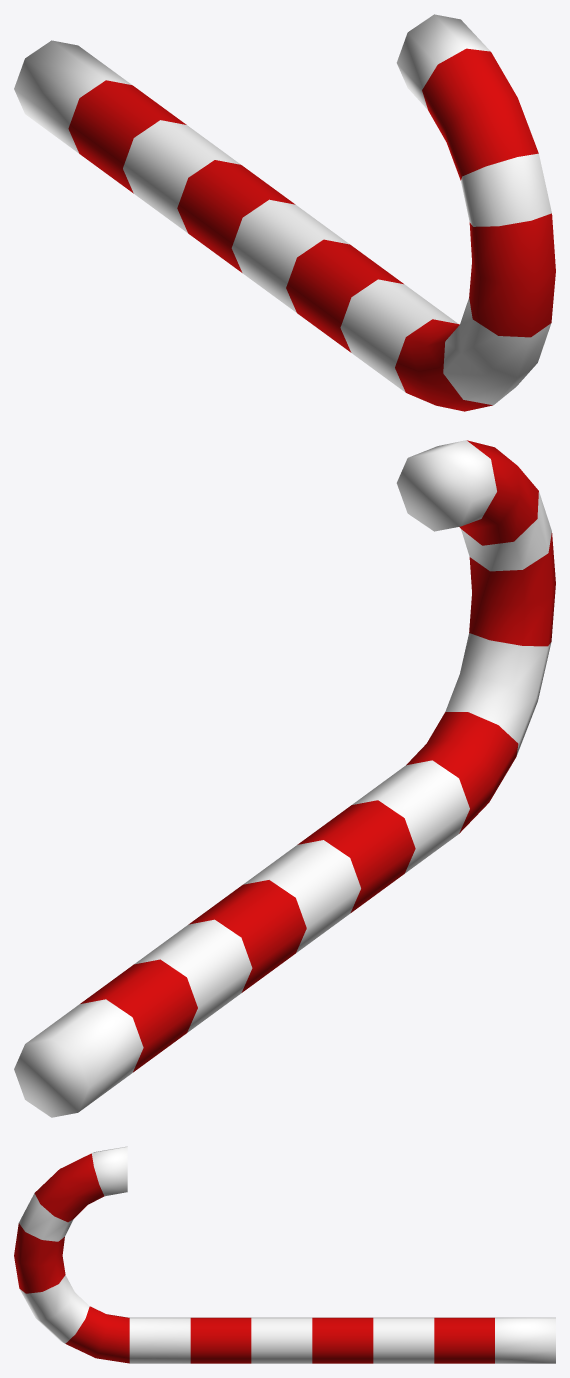
The model's file is char_033_item_candy_cable_01_FBX.fbx.
The picture shows the model from 3 angles, top to bottom: view 1: azimuth 30°, elevation 25°; view 2: azimuth 150°, elevation 25°; view 3: azimuth 270°, elevation 25°; orthographic projection. The views are drawn at different scales.
Visible parts, largest first — view 1: item_candy_cable_01; view 2: item_candy_cable_01; view 3: item_candy_cable_01.
Boxes of the visible parts, x1,y1,x2,y2 form: item_candy_cable_01: (14, 14, 555, 411); item_candy_cable_01: (14, 440, 555, 1117); item_candy_cable_01: (14, 1146, 555, 1363).
Size of the model in its own units: 0.1614 by 0.7888 by 1.8.
Materials: 1 (1 with a texture image).
